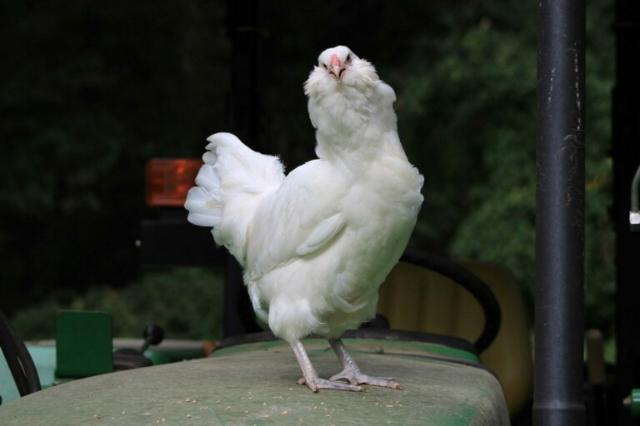Chicken: (183, 45, 425, 394)
